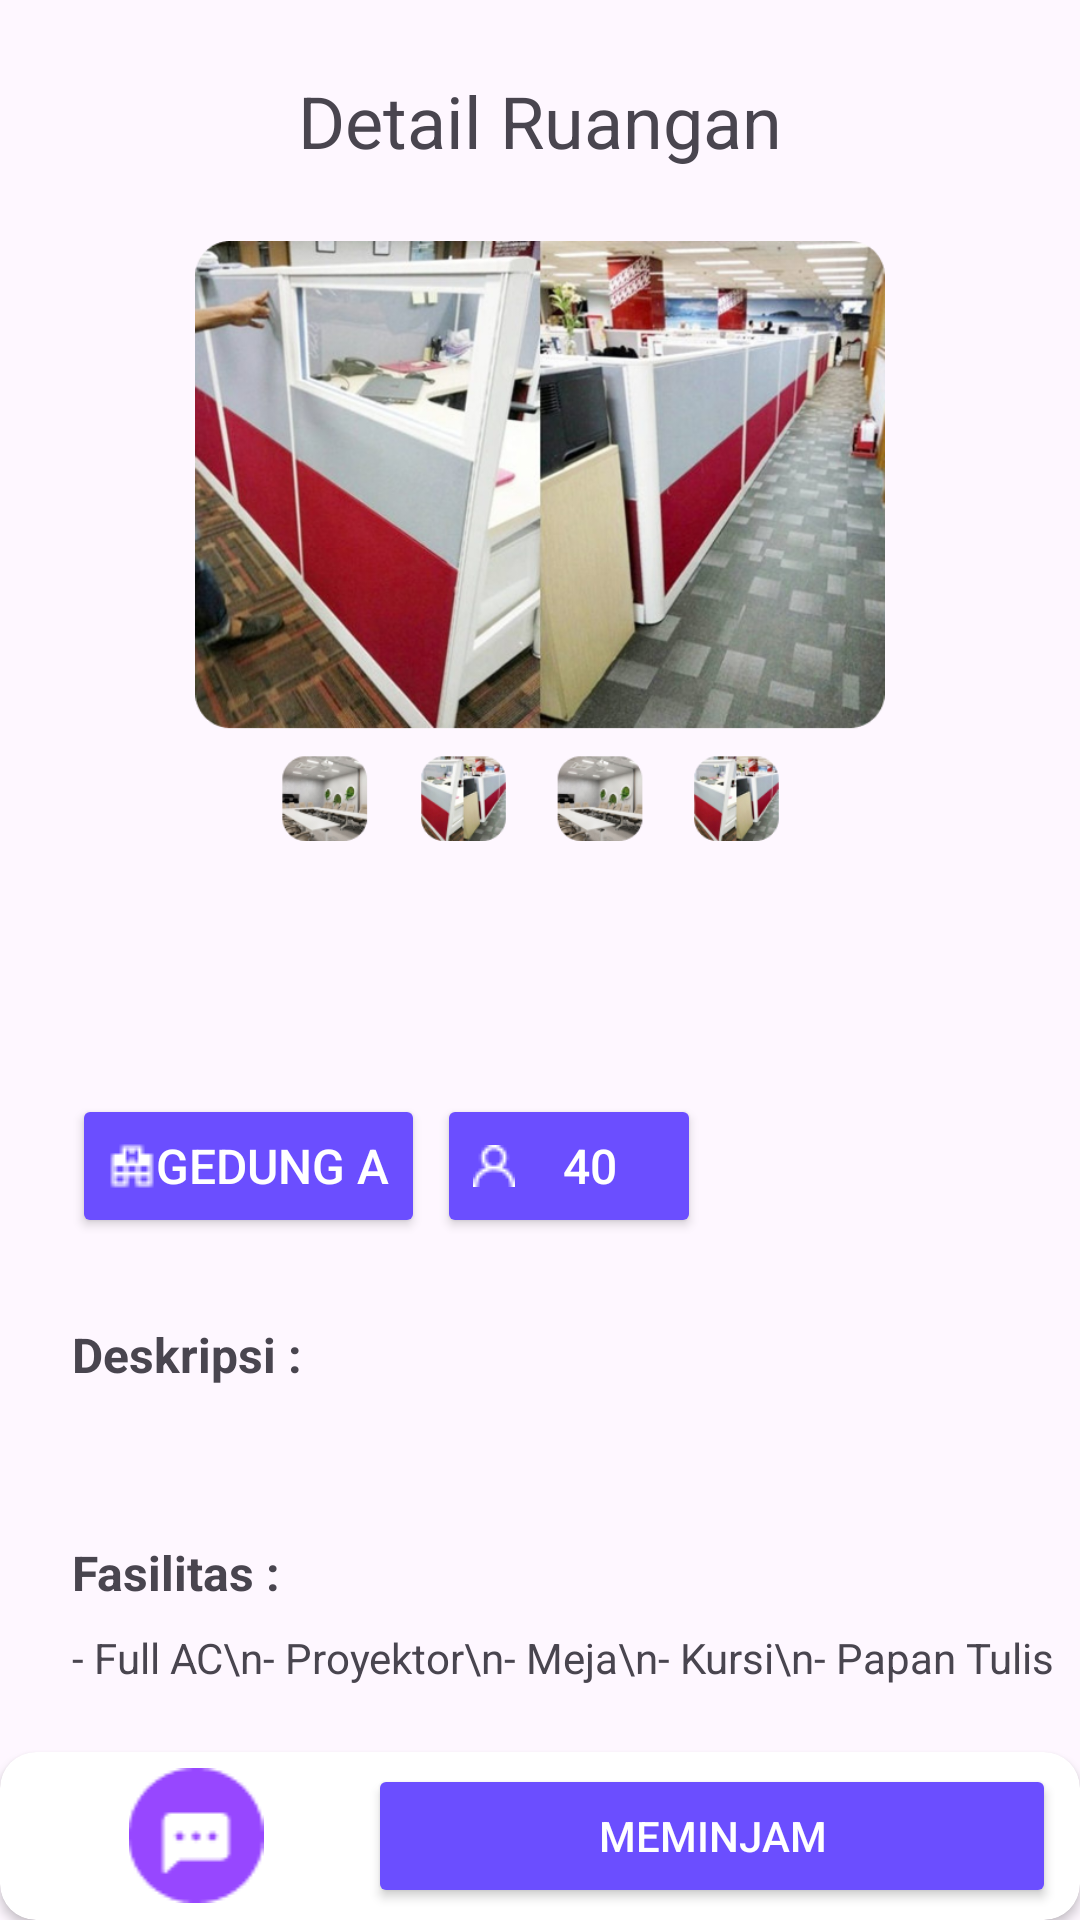

Icon click points for this 1080x1920 phone screenshot, format (x,y):
detail chat: (196,1835)
